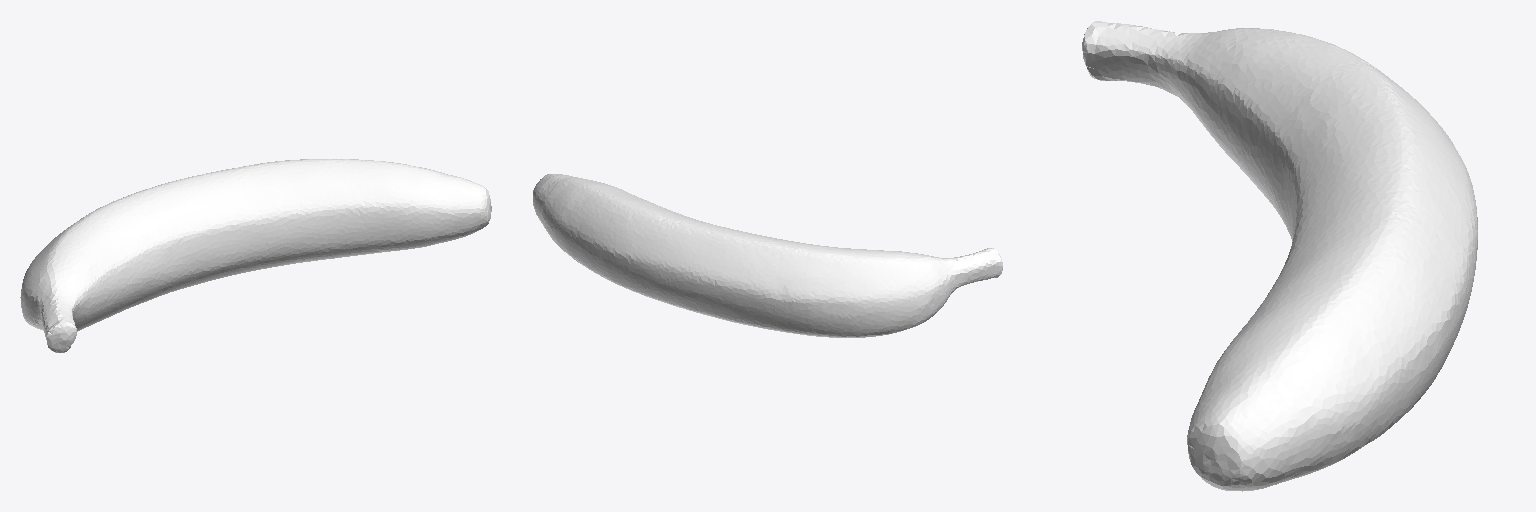
robot.urdf — model.urdf:
<?xml version="0.0" ?>
<robot name="model.urdf">
  <link name="baseLink">
    <contact>
      <lateral_friction value="0.8"/>
      <rolling_friction value="0.001"/>g
      <contact_cfm value="0.0"/>
      <contact_erp value="1.0"/>
    </contact>
    <inertial>
    <origin rpy="0 0 0" xyz="0.01 0.0 0.01"/>
       <mass value=".066"/>
       <inertia ixx="1e-3" ixy="0" ixz="0" iyy="1e-3" iyz="0" izz="1e-3"/>
    </inertial>
    <visual>
      <geometry>
        <mesh filename="textured_reoriented.obj" scale="1 1 1"/>
      </geometry>
      <material name="white">
        <color rgba="1. 1. 1. 1."/>
      </material>
    </visual>
    <collision>
      <geometry>
    	 	<mesh filename="collision_vhacd.obj" scale="1 1 1"/>
      </geometry>
    </collision>
  </link>
</robot>

--- Render facts (derived) ---
Views: 3 orthographic renders of the robot side by side, from view 1: azimuth 30°, elevation 25°; view 2: azimuth 150°, elevation 25°; view 3: azimuth 270°, elevation 25°.
Robot: model.urdf — 1 links, 0 joints (none); root link baseLink; default pose: every joint at zero.
Visible links, largest first — view 1: baseLink; view 2: baseLink; view 3: baseLink.
Link boxes in pixels (x1,y1,x2,y2): baseLink: (20,159,491,352); baseLink: (533,174,1002,337); baseLink: (1082,21,1477,491).
Bounding box of the posed robot: 0.1958 × 0.0789 × 0.0375 m (x, y, z).
Meshes: 1 distinct files referenced, 1 mesh visuals loaded (1 OBJ).
